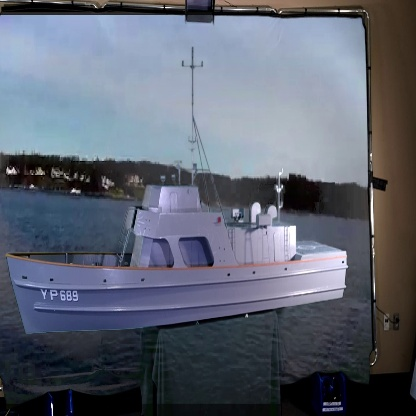YP689: (4, 46, 349, 336)
